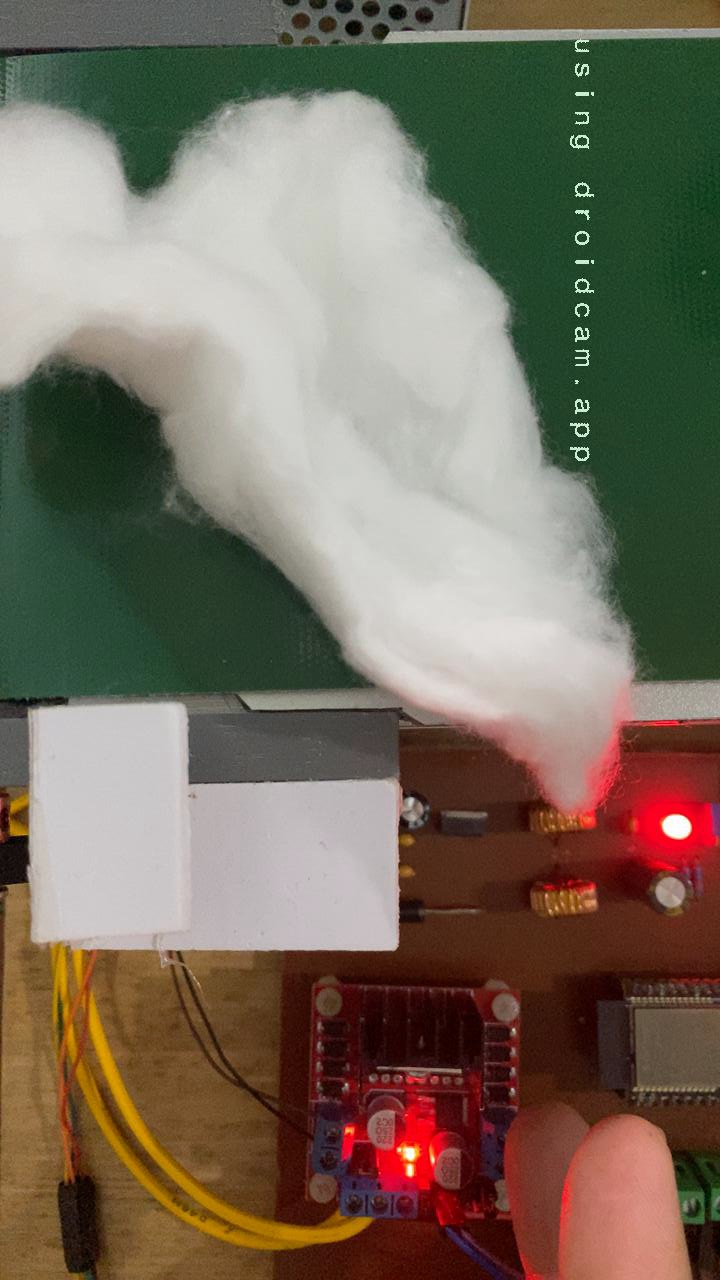cotton: (0, 84, 647, 688)
